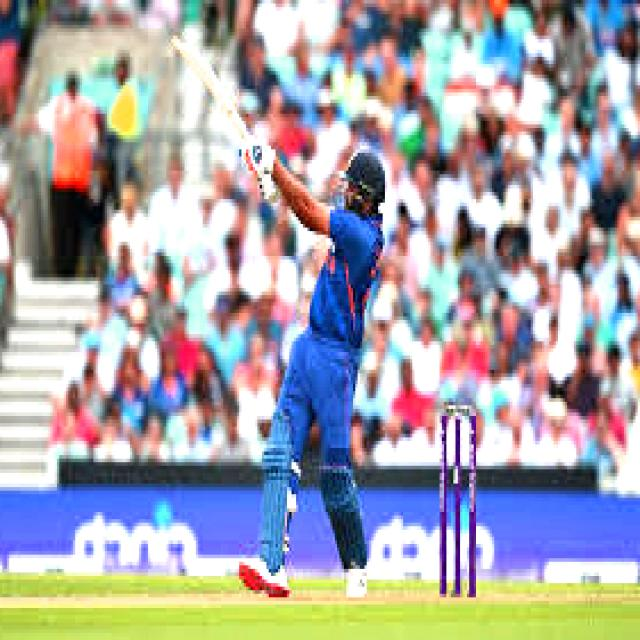toe: (168, 27, 190, 54)
